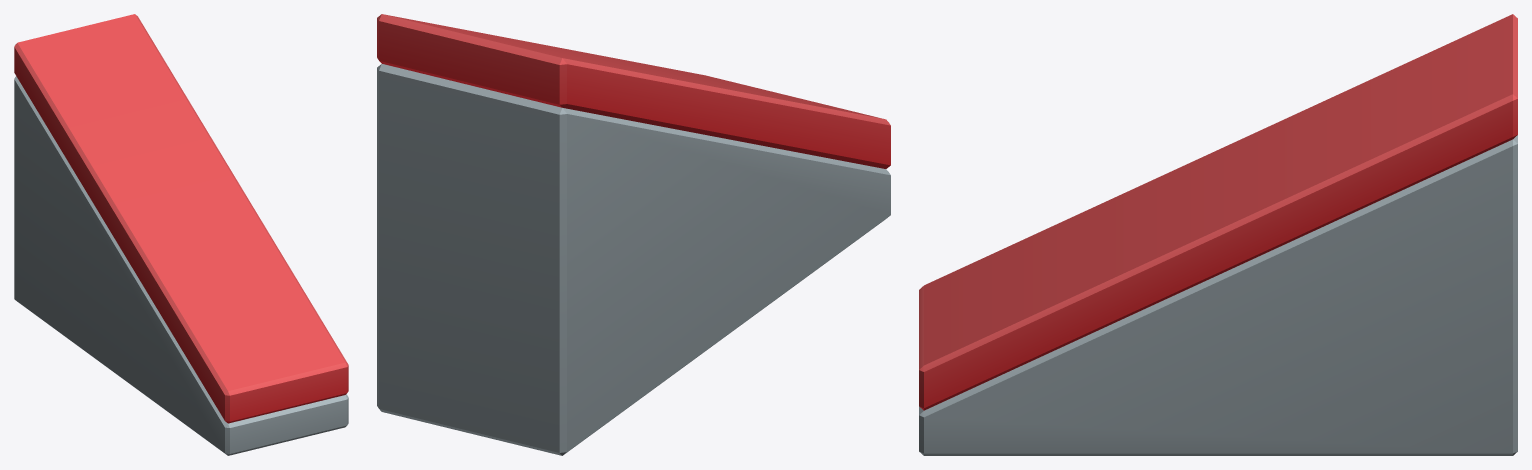
Rendered from platform_slope_2x6x4_red.glb.
3 renders of one model, left to right at view 1: azimuth 30°, elevation 25°; view 2: azimuth 150°, elevation 25°; view 3: azimuth 270°, elevation 25°, orthographic. The views are drawn at different scales.
Visible parts, largest first — view 1: platform_slope_2x6x4_red; view 2: platform_slope_2x6x4_red; view 3: platform_slope_2x6x4_red.
Part boxes in pixels (x1=…): platform_slope_2x6x4_red: x1=14, y1=14, x2=348, y2=455; platform_slope_2x6x4_red: x1=377, y1=14, x2=890, y2=455; platform_slope_2x6x4_red: x1=919, y1=14, x2=1517, y2=455.
Size of the model in its own units: 2 by 4 by 6.
1 material, 1 textured.
